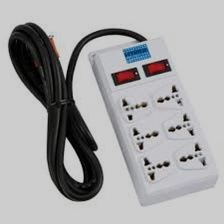three_eye_plug: (85, 32, 221, 211)
